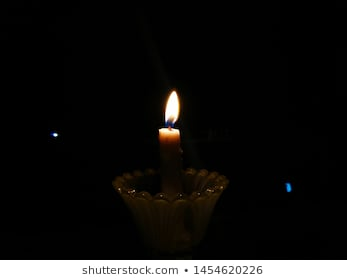Fire: (164, 89, 181, 126)
